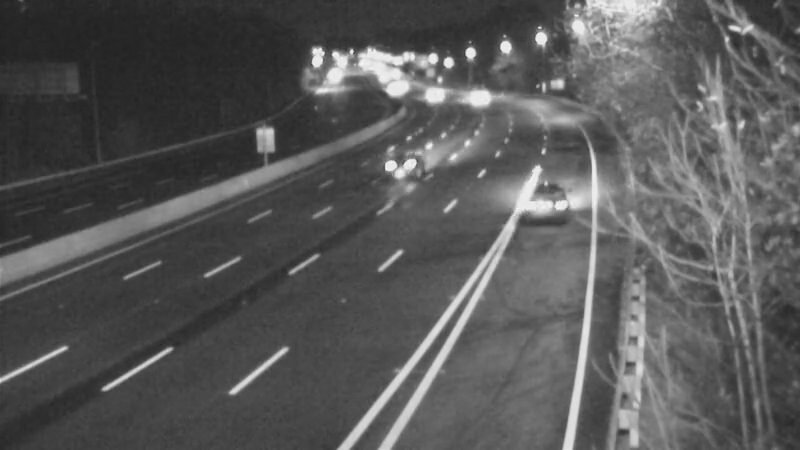vehicle: (361, 126, 441, 206), (503, 159, 583, 239), (408, 71, 458, 121), (446, 70, 496, 120)
